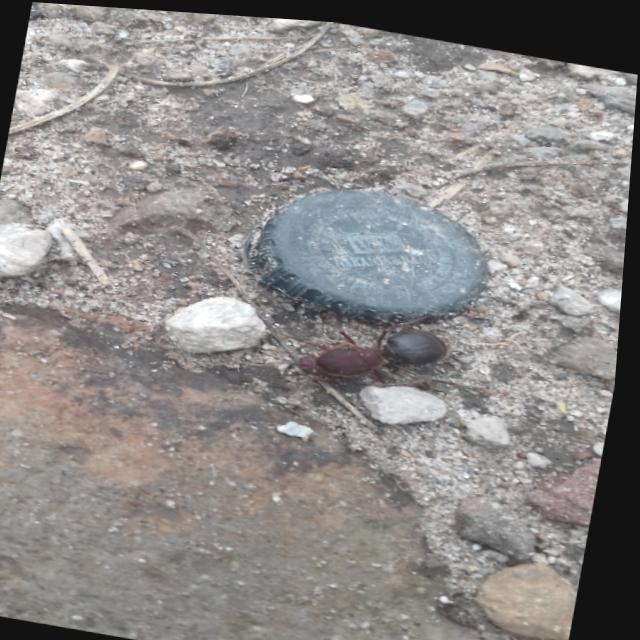Alive-Female-Dealate: (246, 281, 528, 435)
